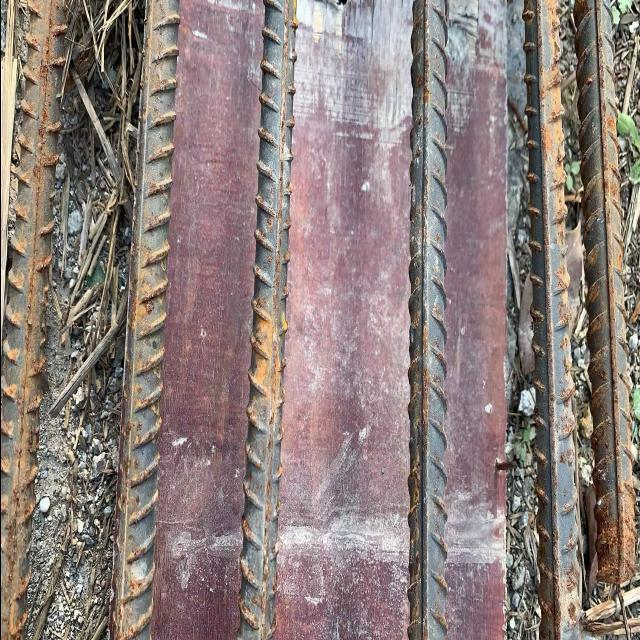ribbed bar: (110, 1, 182, 640), (1, 1, 69, 640), (233, 1, 299, 640), (572, 1, 638, 589), (521, 1, 580, 640), (405, 1, 449, 640)
